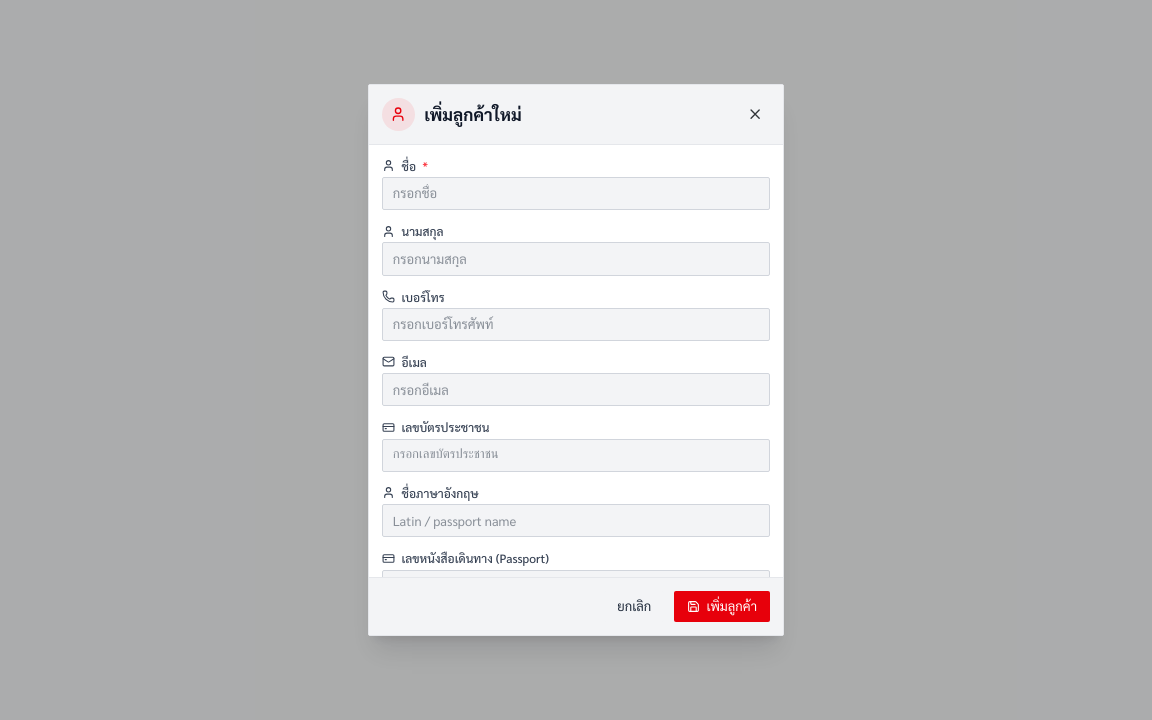
Test case: CustomerForm Component › Loading States › disables submit button while saving
Type "Jane" into the field with placeholder "กรอกชื่อ" at (576, 194), box [382,177,770,210]
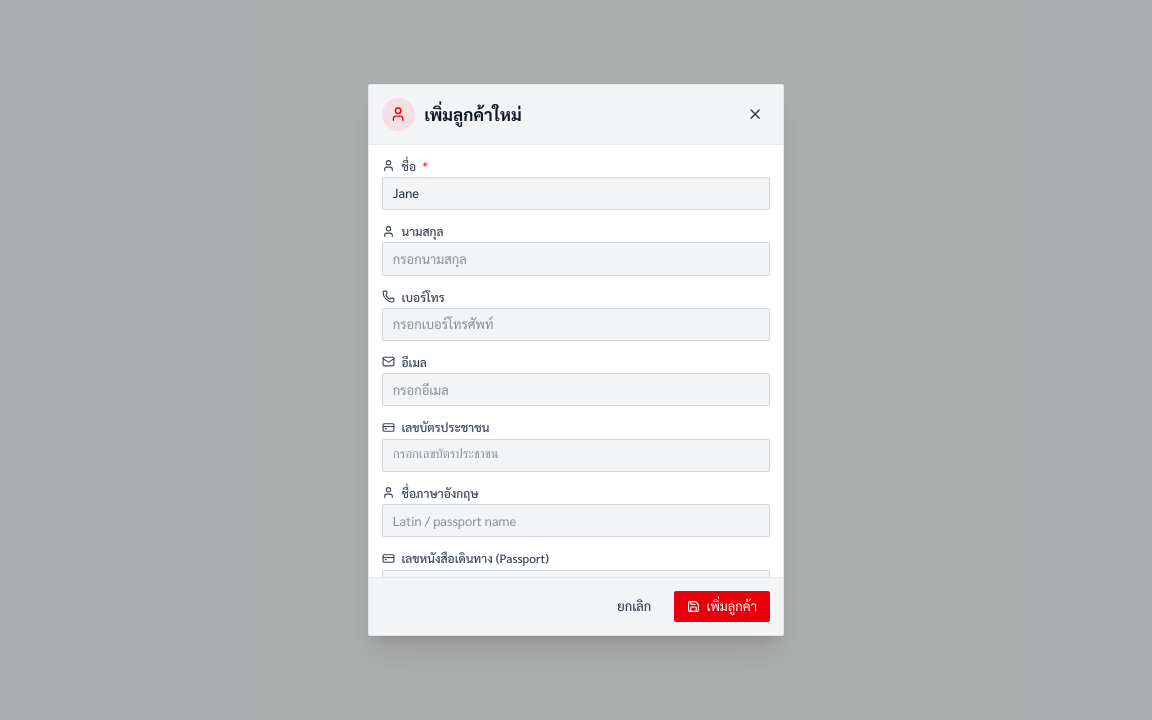
Click the button "เพิ่มลูกค้า" at (722, 606), box [674,591,770,622]
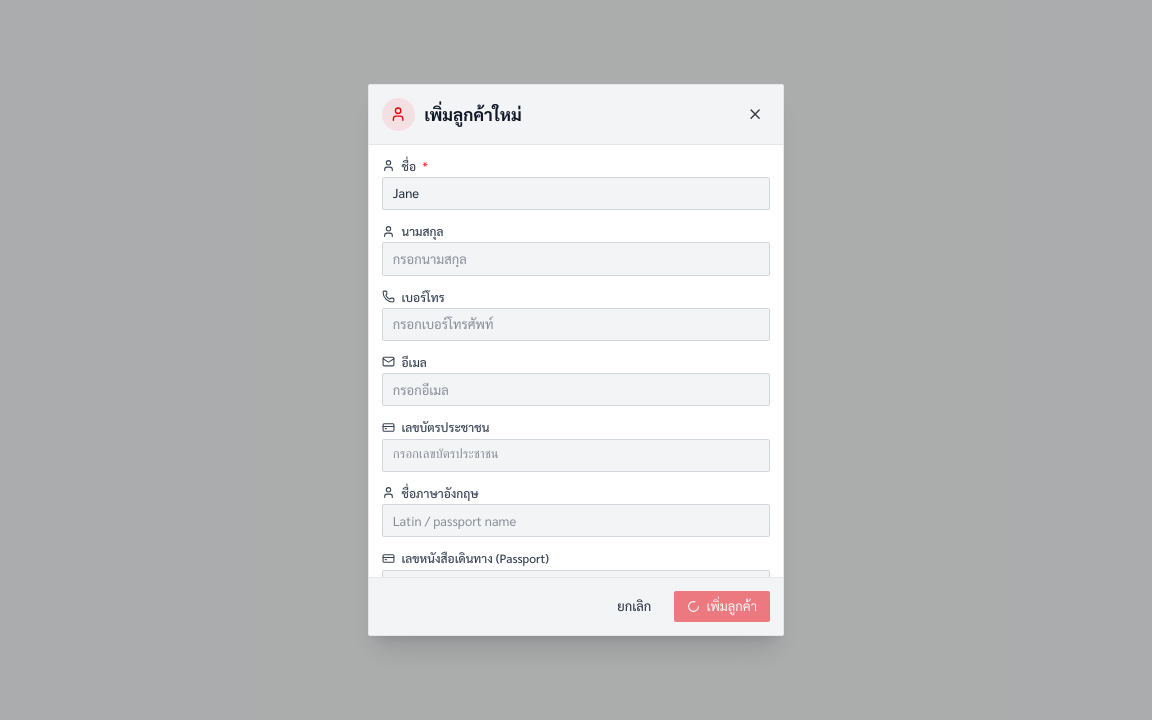
Expected: the button "เพิ่มลูกค้า" is disabled, [674,591,770,622]
